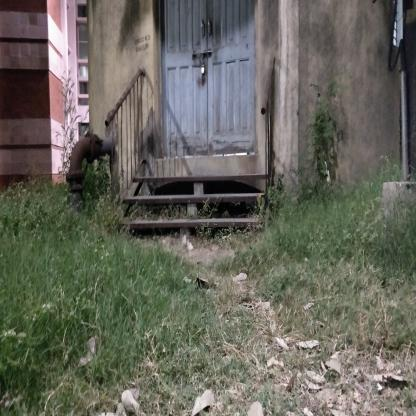stairs: (127, 173, 263, 239)
